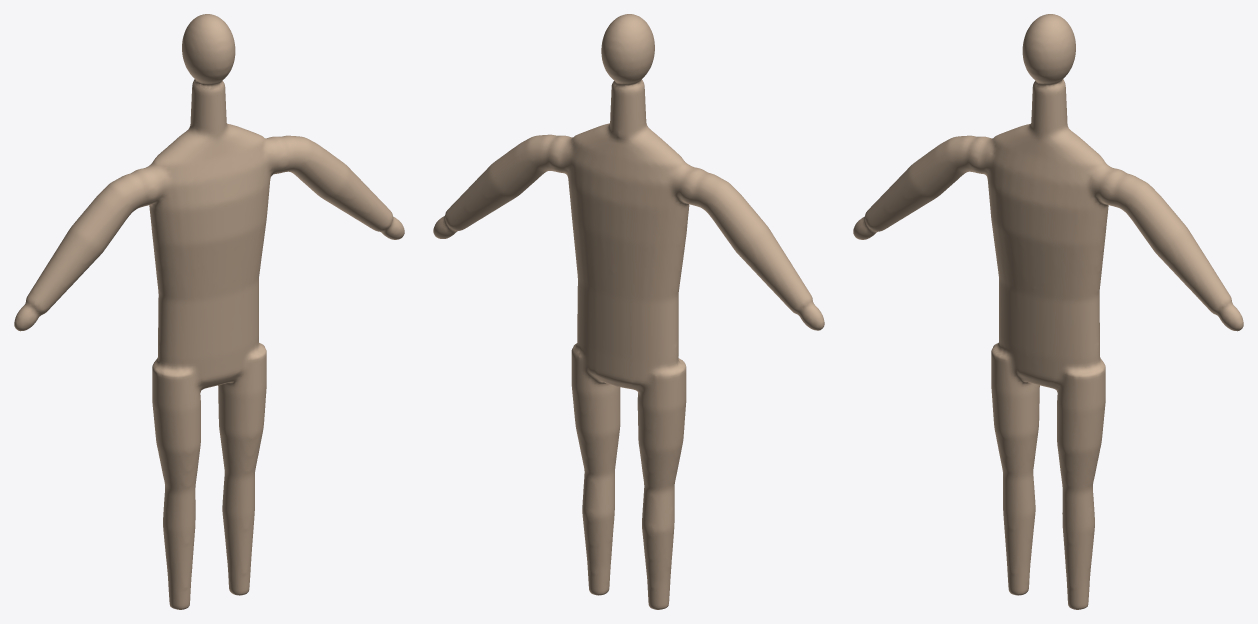
The model's file is mannequin.glb.
3 renders of one model, left to right at view 1: azimuth 30°, elevation 25°; view 2: azimuth 150°, elevation 25°; view 3: azimuth 330°, elevation 25°, orthographic.
Visible parts, largest first — view 1: Mannequin; view 2: Mannequin; view 3: Mannequin.
Boxes of the visible parts, x1,y1,x2,y2 form: Mannequin: (14,14,404,609); Mannequin: (433,14,824,609); Mannequin: (853,14,1243,609).
Size of the model in its own units: 1.37 by 1.97 by 0.205.
